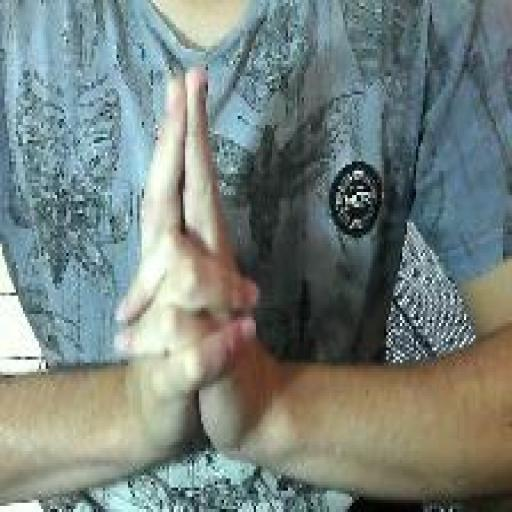Tora -tiger-: (111, 61, 264, 466)
